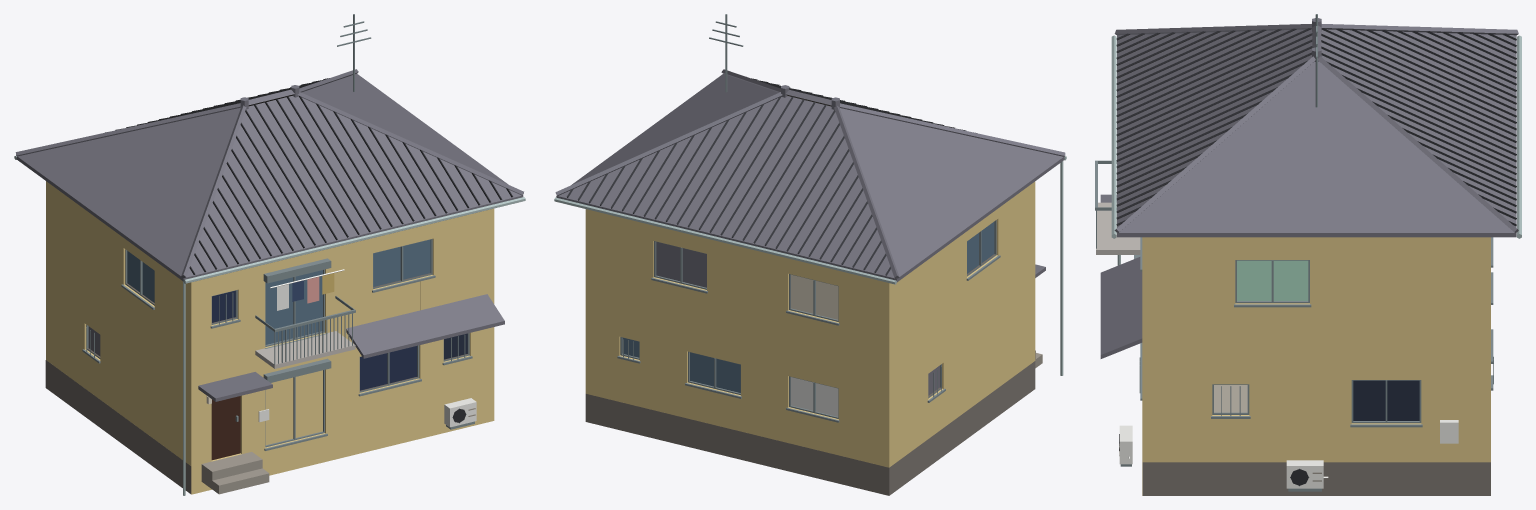
File: tb_house_tile_2f_01_b.fbx
3 renders of one model, left to right at view 1: azimuth 30°, elevation 25°; view 2: azimuth 150°, elevation 25°; view 3: azimuth 270°, elevation 25°, orthographic. The views are drawn at different scales.
Visible parts, largest first — view 1: tb_house_tile_2f_01_b; view 2: tb_house_tile_2f_01_b; view 3: tb_house_tile_2f_01_b.
Boxes of the visible parts, x1,y1,x2,y2 form: tb_house_tile_2f_01_b: (14,14,525,495); tb_house_tile_2f_01_b: (554,14,1066,495); tb_house_tile_2f_01_b: (1095,14,1521,495).
Size of what is drawn, in the model's own units: 10.2 by 10.5 by 9.18.
3 materials, 3 textured.
